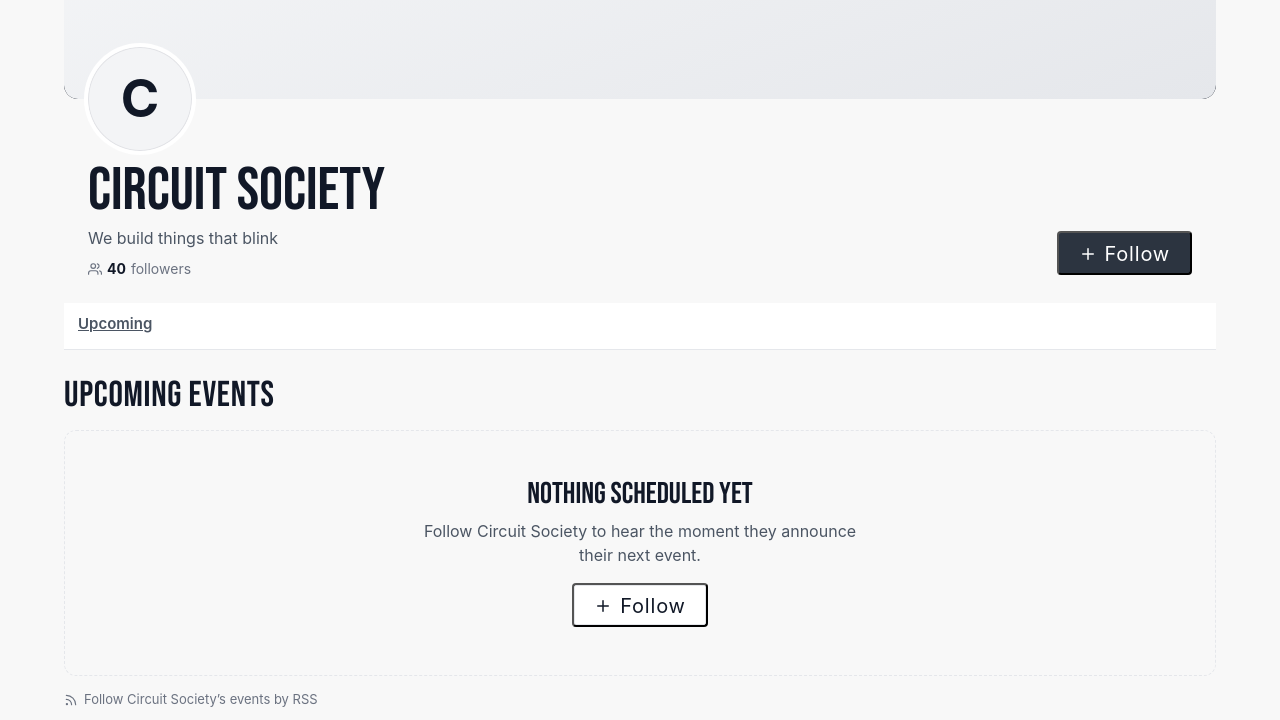
Scenario: an empty club page, signed in › offers Follow in the empty upcoming list too, and says so once following
(page scrolled)
Expected: the text "Follow Circuit Society to hear the moment they announce their next event." is shown, [420, 519, 860, 567]
Click the button "Follow" below "Nothing scheduled yet" at (640, 605), box [572, 583, 708, 627]
(page scrolled)
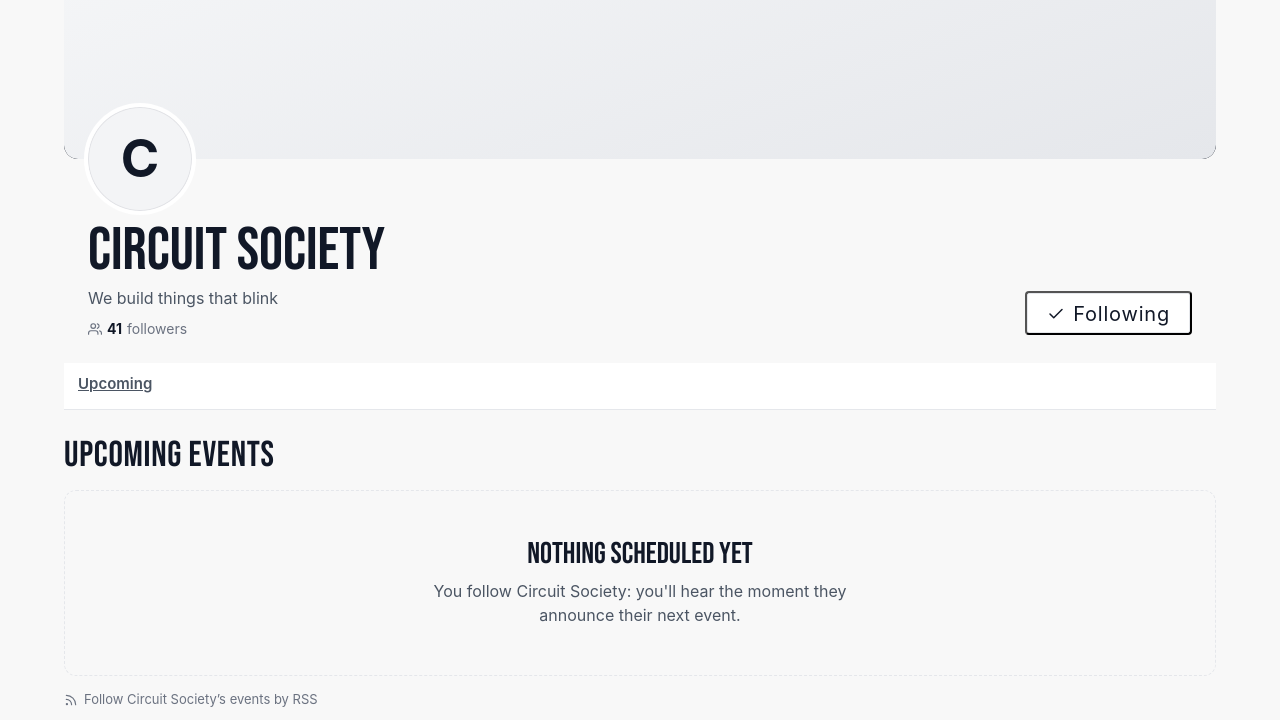
Expected: the text "You follow Circuit Society" is shown, [434, 581, 846, 625]
